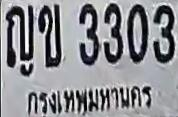0: (127, 3, 148, 62)
3: (78, 2, 100, 64), (152, 4, 174, 62), (102, 2, 123, 62)
A02: (39, 4, 64, 68)
A13: (4, 4, 34, 66)
BKK: (23, 81, 156, 117)
